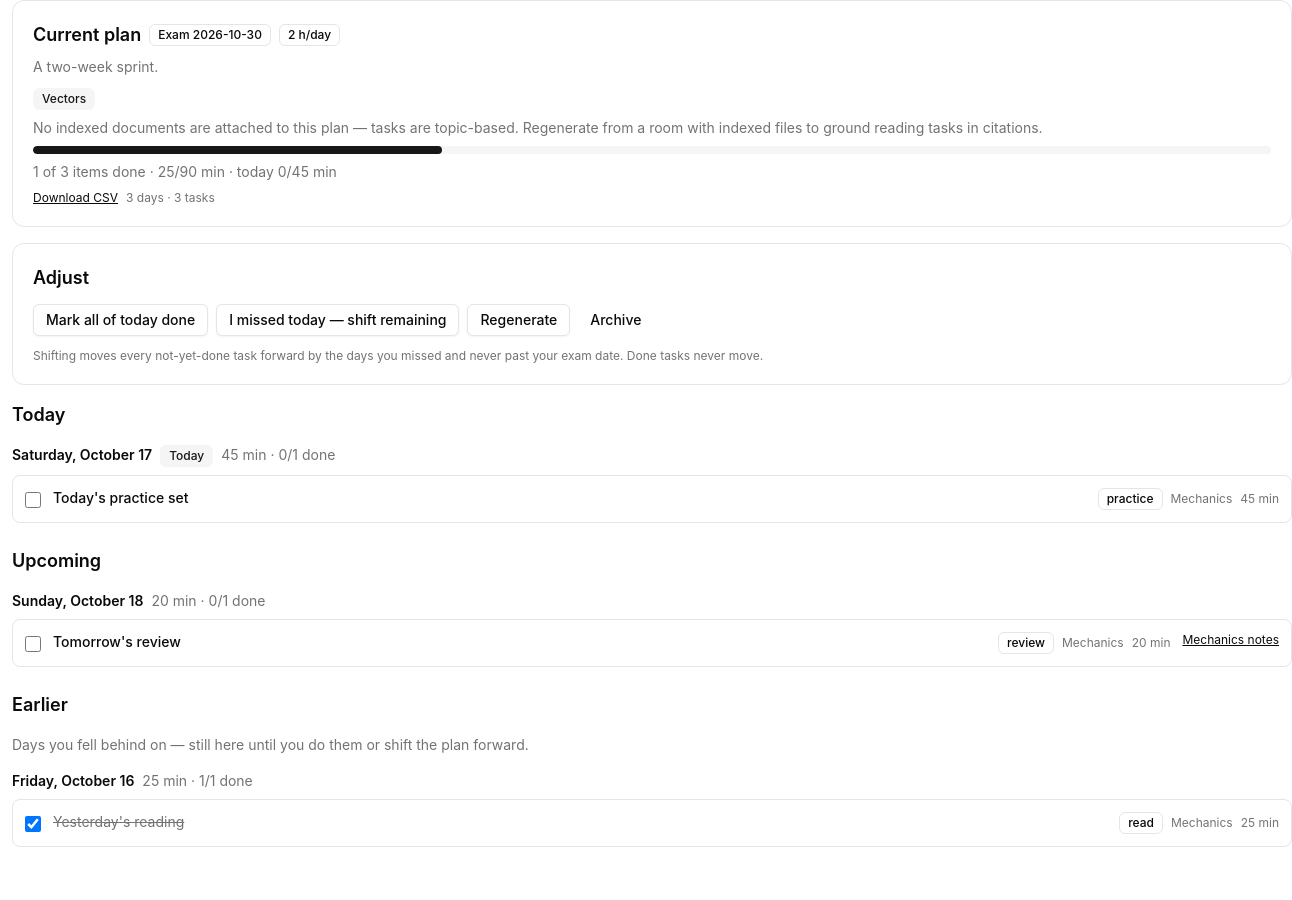
Test case: PlanView › reports a lost connection without changing the checklist
This screenshot has width=1292, height=900.
Click the checkbox labelled "Today's practice set".
click(33, 500)  # box x1=25 y1=492 x2=41 y2=508
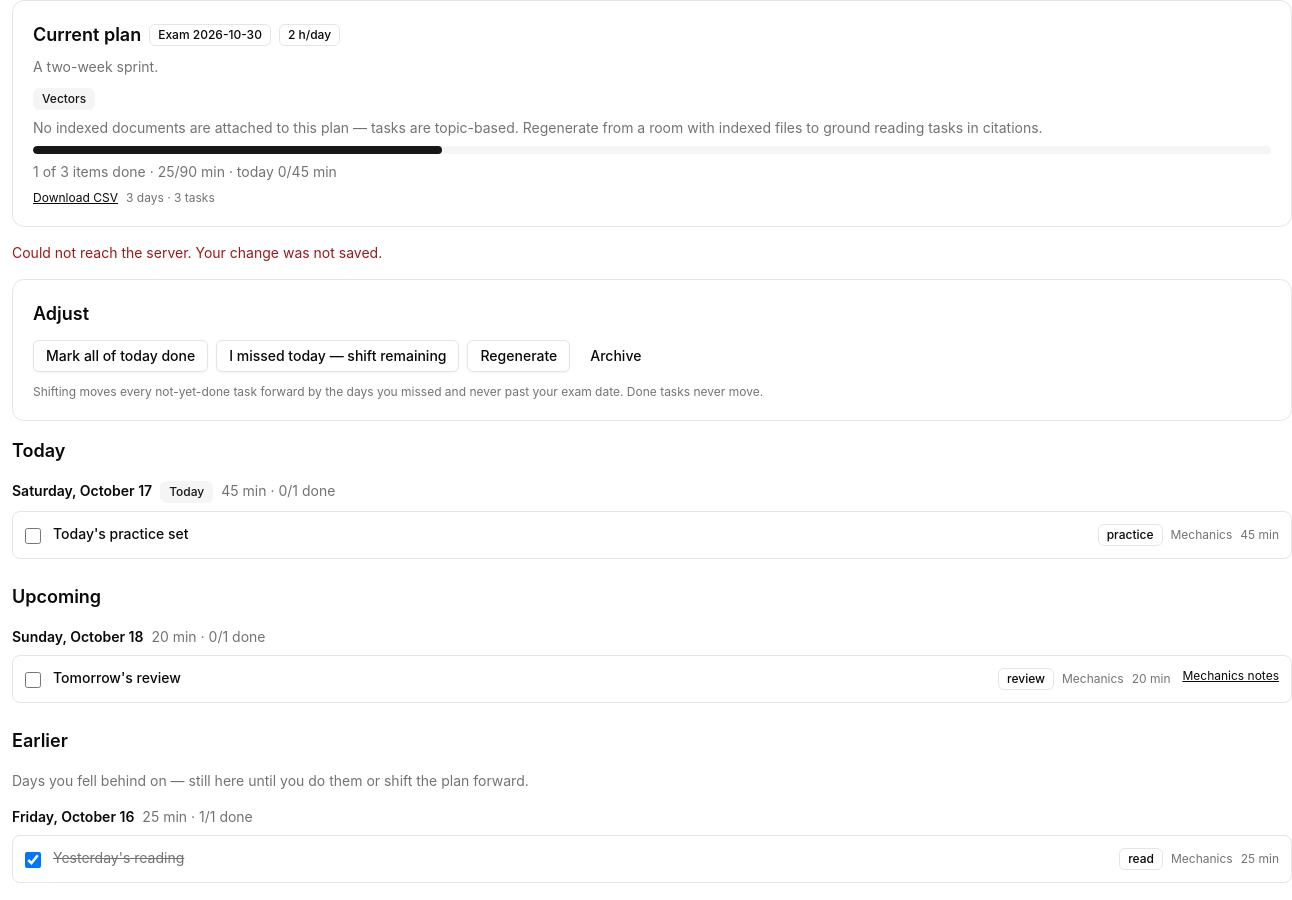
Expected: the checkbox labelled "Today's practice set" is not checked, x1=25 y1=528 x2=41 y2=544
Expected: the message reads "Could not reach the server. Your change was not saved.", x1=12 y1=244 x2=382 y2=261
